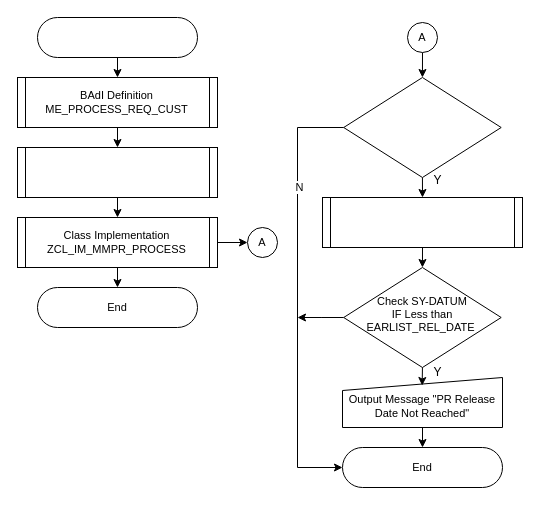
This 540x505 diagram has some shape labels left out. Each missing label, with the centre of its shape:
"BAdI Implementation ZMMPR_PROCESS" goes at [117,172].
"Check SY-TCODE IF EQ 'ME54N'" goes at [422,127].
"Perform Subroutine ADD_WORKINGDAYS_BY_PLANT Returning EARLIST_REL_DATE" goes at [422,222].
"Start" goes at [117,37].
